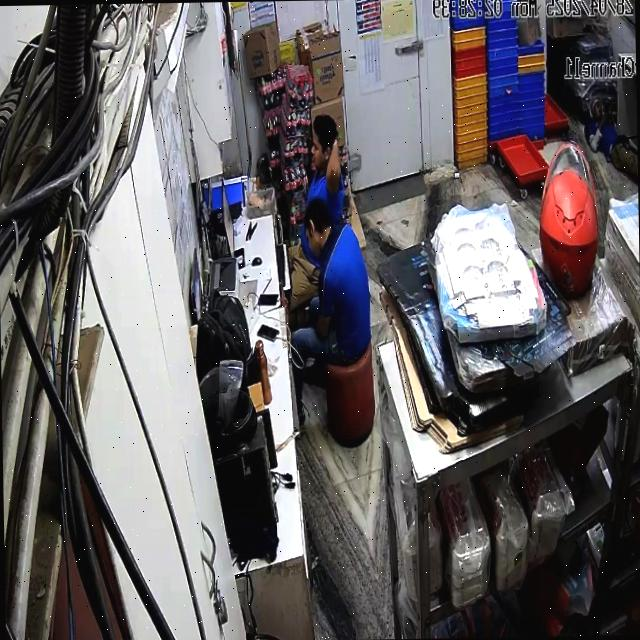helmet: (538, 140, 598, 299), (199, 359, 258, 458)
